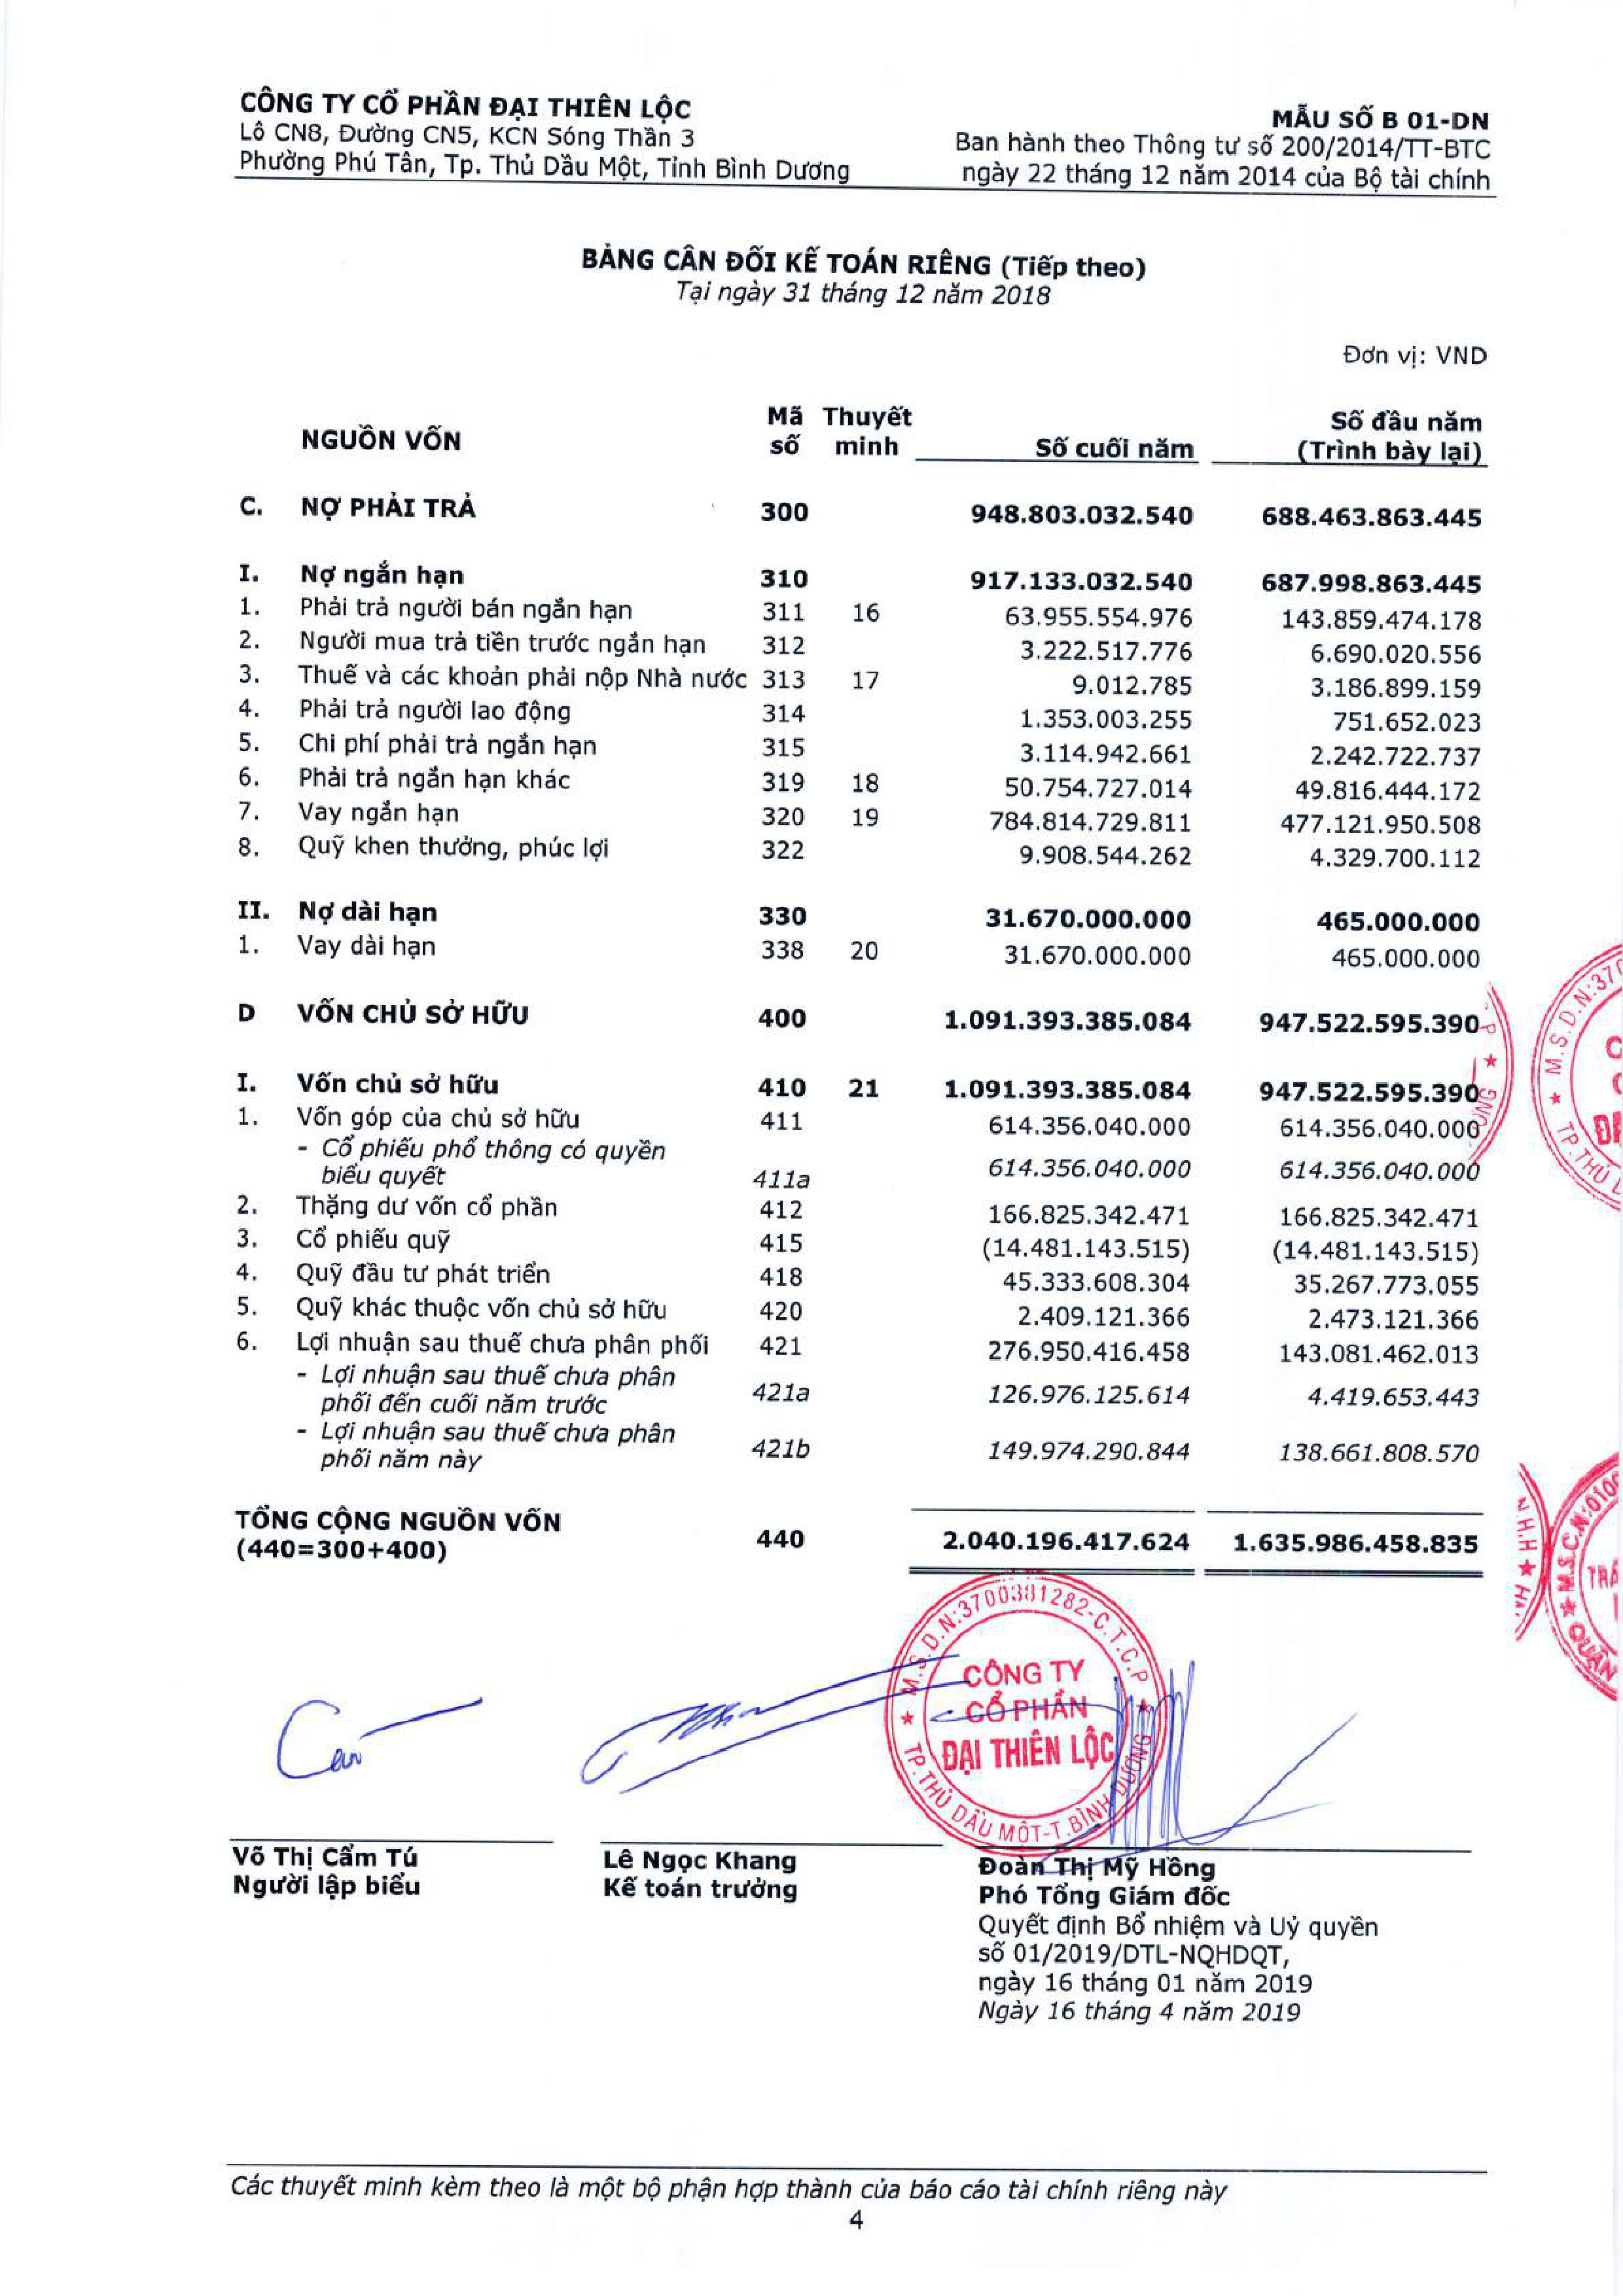table: (213, 390, 1502, 1597)
table column: (230, 388, 748, 1599), (933, 388, 1201, 1597), (1224, 390, 1493, 1597), (822, 390, 919, 1597), (752, 386, 819, 1599)
table column header: (214, 404, 1504, 469)
table row: (213, 400, 1502, 467), (213, 1501, 1504, 1566), (213, 477, 1502, 537), (214, 1136, 1502, 1190), (213, 1364, 1502, 1417), (213, 1420, 1502, 1471), (213, 932, 1502, 972), (213, 994, 1502, 1034), (213, 1062, 1502, 1102), (213, 893, 1502, 932), (213, 1190, 1502, 1227), (213, 558, 1502, 593), (213, 1227, 1502, 1262), (213, 1295, 1502, 1331), (213, 595, 1502, 628), (213, 628, 1502, 662), (213, 664, 1502, 697), (213, 697, 1502, 730), (213, 732, 1502, 765), (213, 765, 1502, 799), (213, 800, 1502, 834), (213, 834, 1502, 867), (213, 1102, 1502, 1136), (213, 1262, 1502, 1295), (213, 1331, 1502, 1362)
